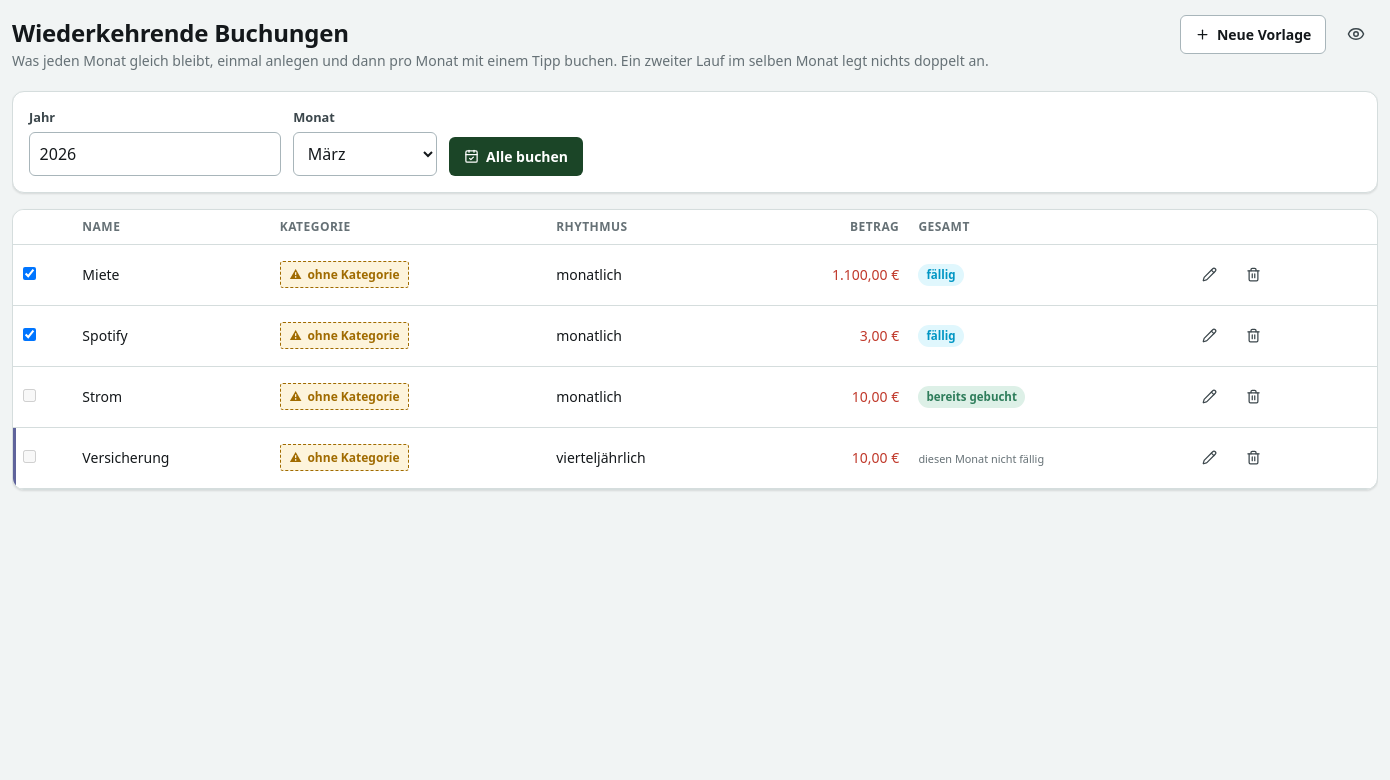
Test: the monthly checklist › says what happened, including how many became drafts
Click the button "Alle buchen" at (516, 156), box [449, 137, 583, 176]
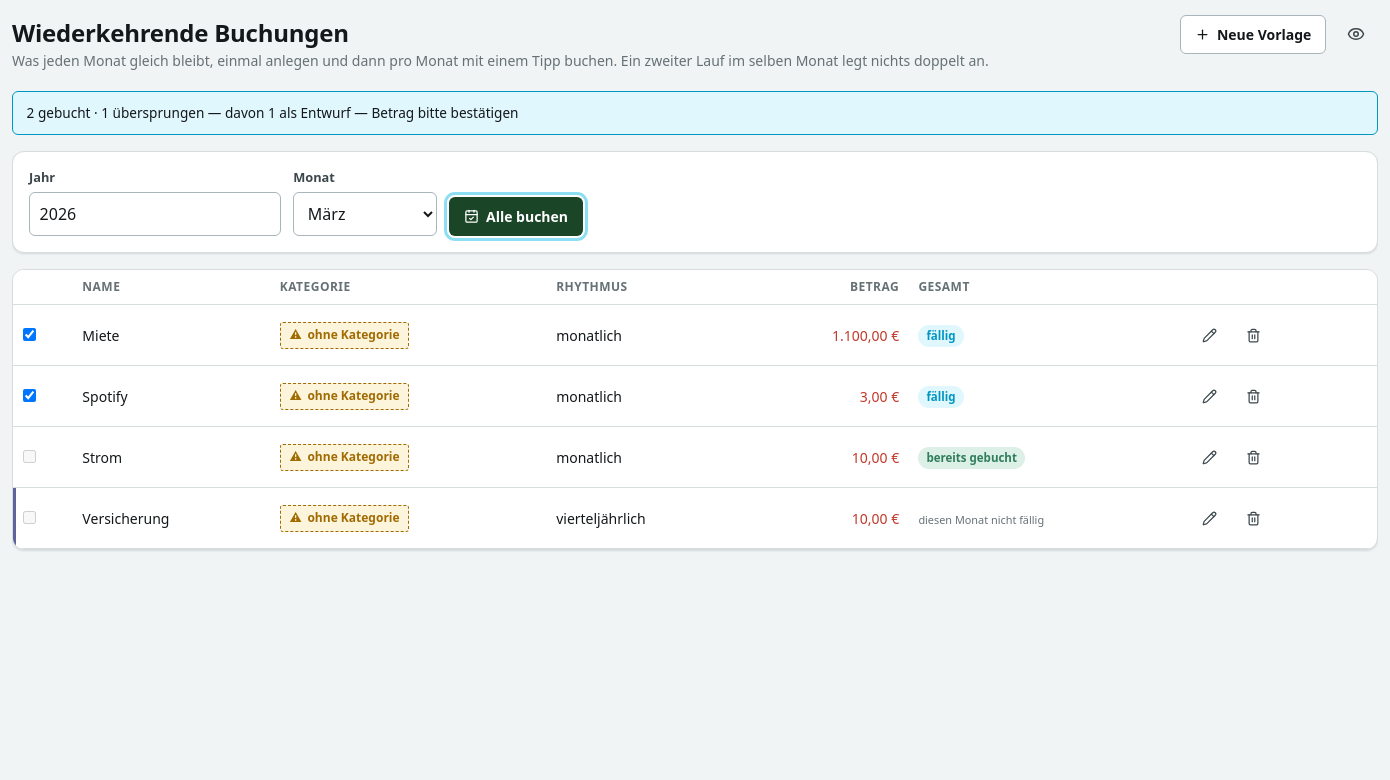
Now the text "davon 1 als Entwurf" is shown, box [27, 103, 518, 122]
